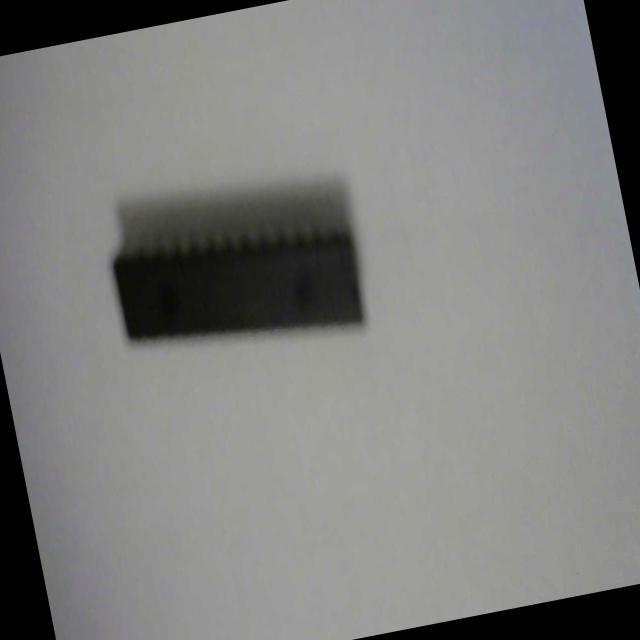atmega: (96, 152, 378, 376)
